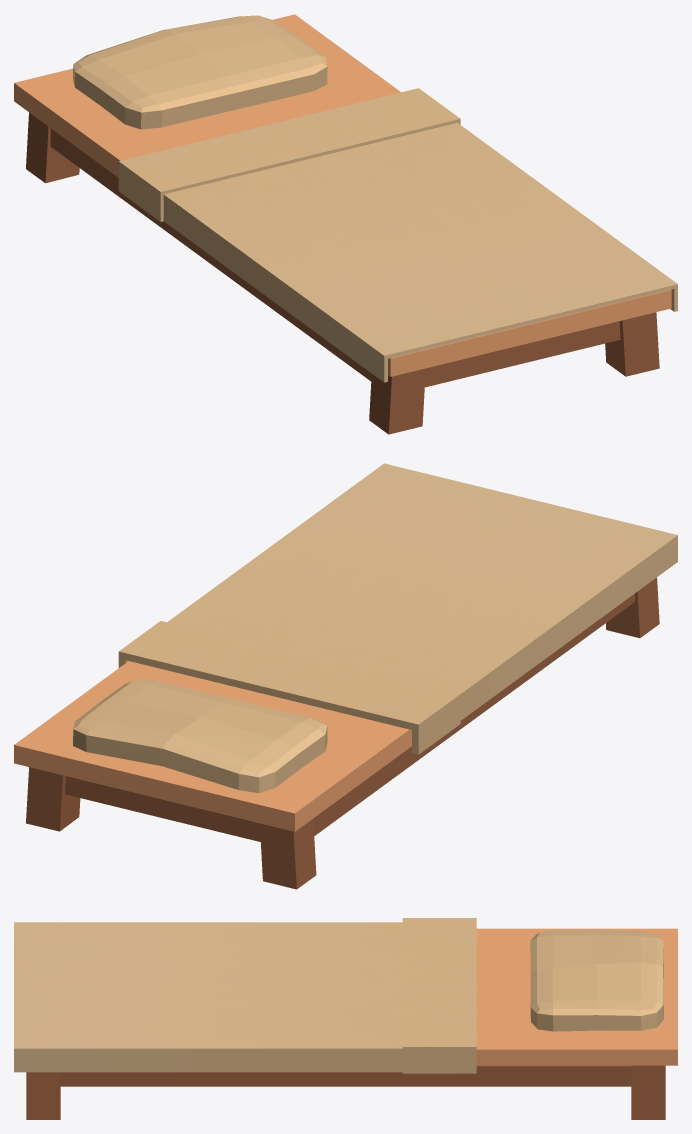
The model's file is bed.glb.
3 views of the same model, one above another, from view 1: azimuth 30°, elevation 25°; view 2: azimuth 150°, elevation 25°; view 3: azimuth 270°, elevation 25° (orthographic). The views are drawn at different scales.
Parts seen in each view (by area): view 1: bed; view 2: bed; view 3: bed.
Boxes of the visible parts, x1=… form: bed: x1=14, y1=14, x2=677, y2=434; bed: x1=14, y1=463, x2=677, y2=889; bed: x1=14, y1=918, x2=677, y2=1119.
Bounding box in the file's own units: 0.5722 × 0.2047 × 1.24.
1 material, 1 textured.
